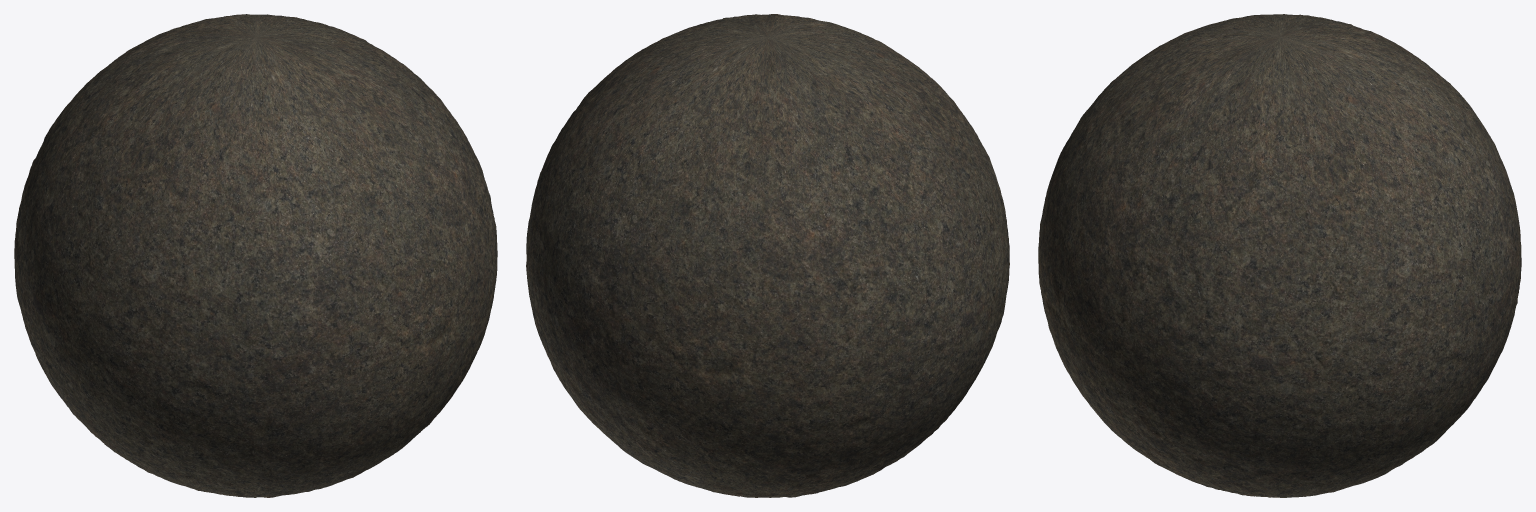
The model's file is seaside_rock_1k.gltf.
3 renders of one model, left to right at view 1: azimuth 30°, elevation 25°; view 2: azimuth 150°, elevation 25°; view 3: azimuth 270°, elevation 25°, orthographic.
Visible parts, largest first — view 1: sphere_gltf; view 2: sphere_gltf; view 3: sphere_gltf.
Boxes of the visible parts, left/top/right/bottom form: sphere_gltf: left=14, top=14, right=497, bottom=497; sphere_gltf: left=526, top=14, right=1009, bottom=497; sphere_gltf: left=1038, top=14, right=1521, bottom=497.
Bounding box in the file's own units: 2.02 × 2.02 × 2.02.
1 material, 1 textured.
